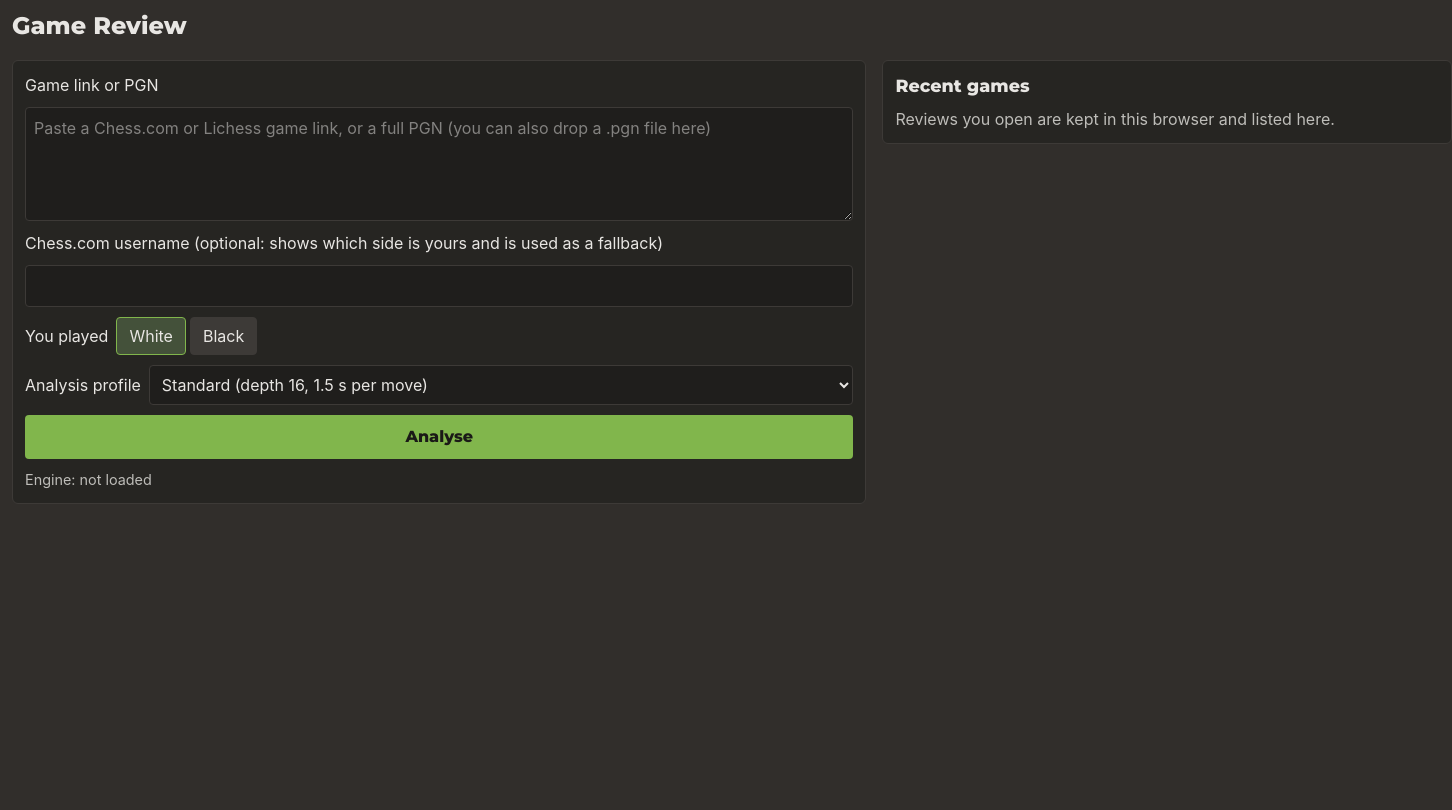
Test: error panel renders by key (G.6, Appendix F) › pages_needs_username is a notice (P-5) and focuses the username field
Replace the text in the text box with test id "import-input" with "x" at (439,164), box [25, 107, 853, 221]
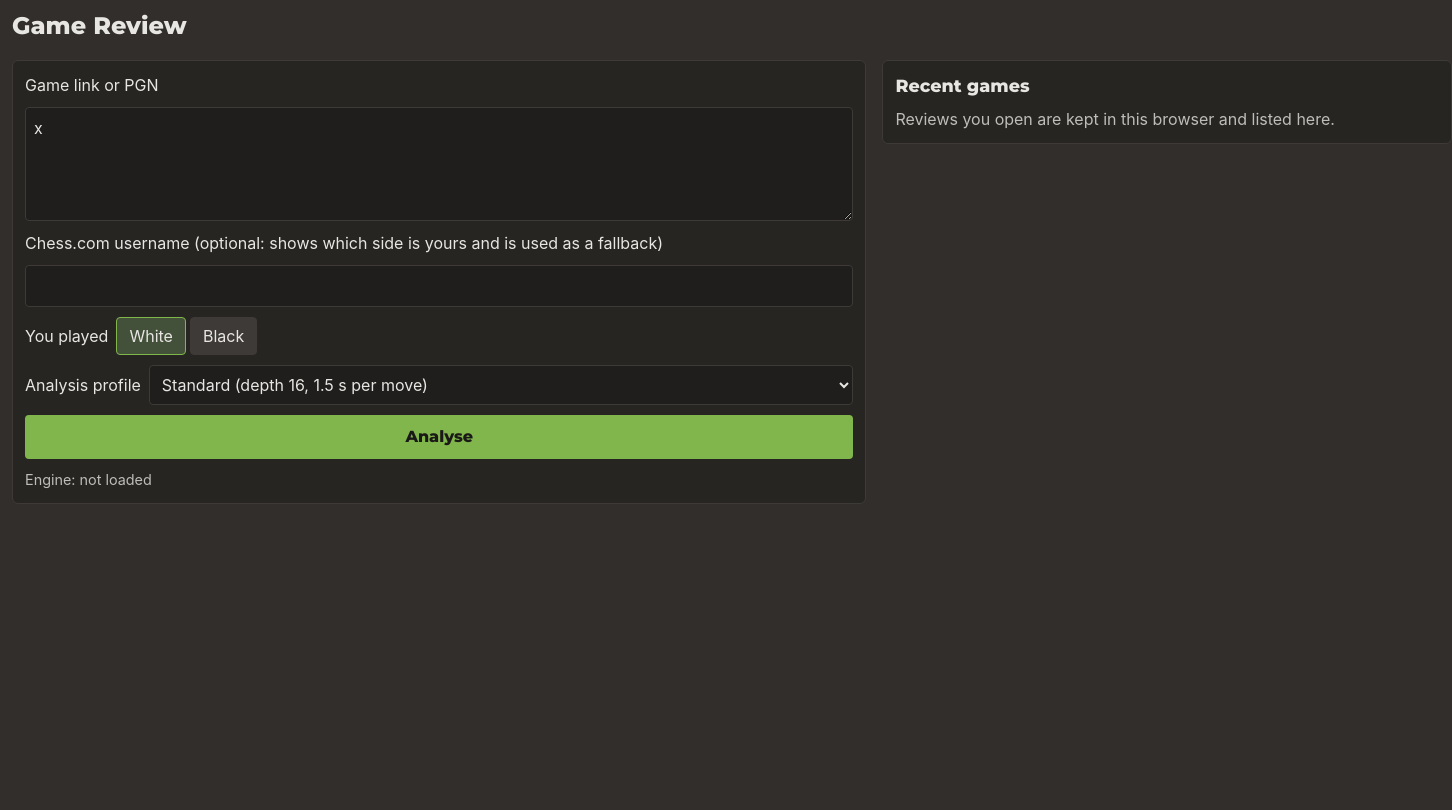
Click the button with test id "import-submit" at (439,437), box [25, 415, 853, 459]
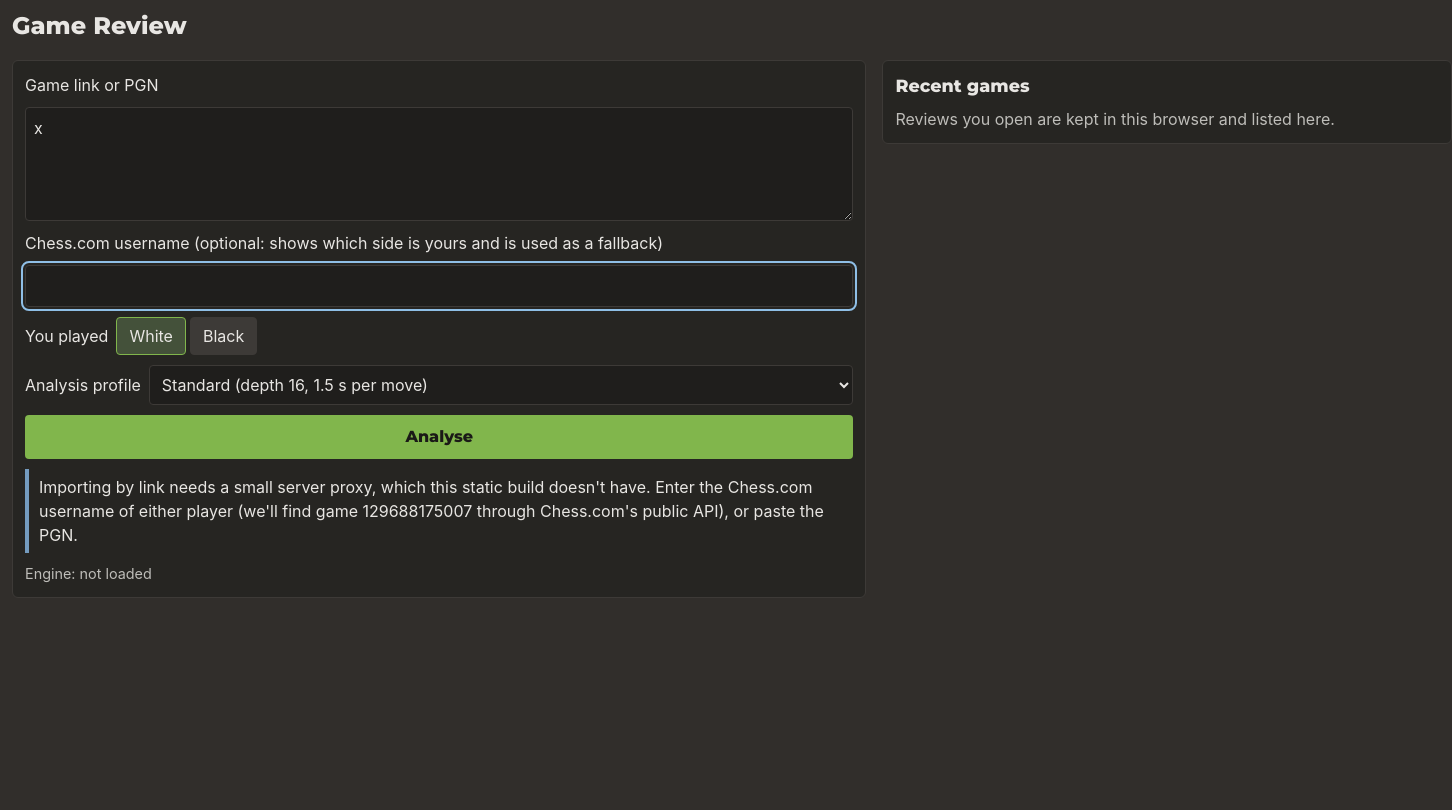
Expected: the message with test id "import-notice" shows "we'll find game 129688175007 through", [39, 477, 824, 545]
